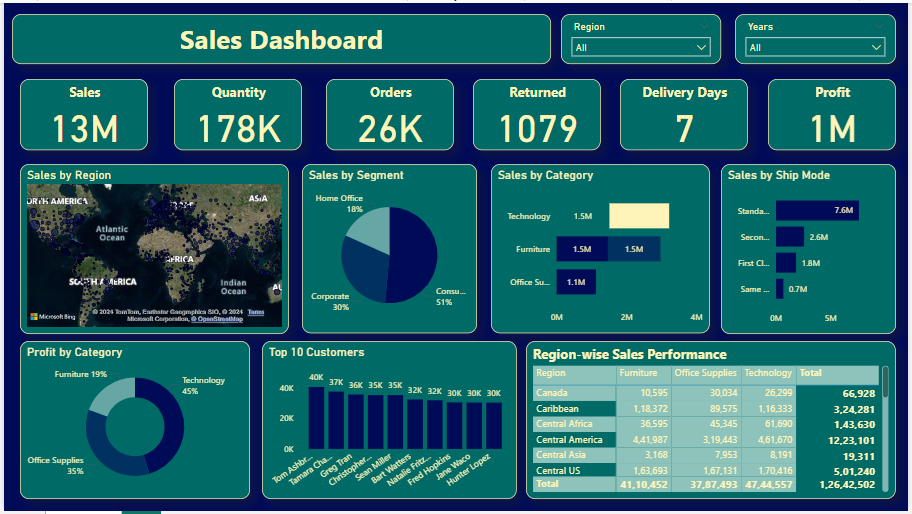

The dashboard page shown, as its layout file describes it:
{"tool":"powerbi","page":{"name":"Page 1","canvas":[1280,720],"ordinal":0},"visuals":[{"type":"textbox","box":[11.3,15.6,763.9,70.9],"z":0},{"type":"slicer","fields":{"Values":["Orders.Years"]},"box":[1036.1,15.6,228.2,70.9],"z":1000},{"type":"card","title":"Sales","fields":{"Values":["Orders.Sales"]},"box":[22.7,107.7,181.4,100.6],"z":2000},{"type":"card","title":"Quantity","fields":{"Values":["Orders.Quantity"]},"box":[240.9,107.7,181.4,100.6],"z":3000},{"type":"card","title":"Orders","fields":{"Values":["Orders.Order ID"]},"box":[456.4,107.7,181.4,100.6],"z":4000},{"type":"card","title":"Returned","fields":{"Values":["Returns.Returns"]},"box":[664.7,107.7,181.4,100.6],"z":5000},{"type":"card","title":"Delivery Days","fields":{"Values":["Orders.Delivery Days"]},"box":[873.1,107.7,181.4,100.6],"z":6000},{"type":"map","title":"Sales by Region","fields":{"Category":["Orders.State"],"Size":["Orders.Sales"]},"box":[22.7,228.2,381.3,240.9],"z":7000},{"type":"pieChart","title":" Sales by Segment","fields":{"Category":["Orders.Segment"],"Y":["Orders.Sales"]},"box":[422.4,228.2,248,239.5],"z":8000},{"type":"barChart","title":"Sales by Category","fields":{"Y":["Orders.Sales"],"Category":["Orders.Category"],"Series":["Orders.Sub-Category"]},"box":[690.2,228.2,310.4,239.5],"z":9000},{"type":"donutChart","title":"Profit by Category","fields":{"Y":["Orders.Profit"],"Category":["Orders.Category"]},"box":[22.7,479.1,326,223.9],"z":10000},{"type":"columnChart","title":"Top 10 Customers","fields":{"Category":["Orders.Customer Name"],"Y":["Orders.Sales"]},"box":[365.7,479.1,361.4,223.9],"z":11000},{"type":"clusteredBarChart","title":"Sales by Ship Mode","fields":{"Category":["Orders.Ship Mode"],"Y":["Orders.Sales"]},"box":[1016.2,228.2,248,240.9],"z":12000},{"type":"slicer","fields":{"Values":["Orders.Region"]},"box":[789.4,15.6,226.8,70.9],"z":13000},{"type":"card","title":"Profit","fields":{"Values":["Orders.Profit"]},"box":[1082.8,107.7,181.4,100.6],"z":14000},{"type":"pivotTable","title":"Region-wise Sales Performance","fields":{"Columns":["Orders.Category"],"Values":["Orders.Sales"],"Rows":["Orders.Region"]},"box":[739.8,479.1,524.4,223.9],"z":15000}]}

Visuals, with their boxes in screenshot pixels (x1, y1, x2, y2), scaled from the page's 1280x720 canvas onto the 912x514 screenshot:
textbox: (x1=8, y1=11, x2=552, y2=62)
slicer - Orders.Years: (x1=738, y1=11, x2=901, y2=62)
"Sales" card: (x1=16, y1=77, x2=145, y2=149)
"Quantity" card: (x1=172, y1=77, x2=301, y2=149)
"Orders" card: (x1=325, y1=77, x2=454, y2=149)
"Returned" card: (x1=474, y1=77, x2=603, y2=149)
"Delivery Days" card: (x1=622, y1=77, x2=751, y2=149)
"Sales by Region" map: (x1=16, y1=163, x2=288, y2=335)
" Sales by Segment" pieChart: (x1=301, y1=163, x2=478, y2=334)
"Sales by Category" barChart: (x1=492, y1=163, x2=713, y2=334)
"Profit by Category" donutChart: (x1=16, y1=342, x2=248, y2=502)
"Top 10 Customers" columnChart: (x1=261, y1=342, x2=518, y2=502)
"Sales by Ship Mode" clusteredBarChart: (x1=724, y1=163, x2=901, y2=335)
slicer - Orders.Region: (x1=562, y1=11, x2=724, y2=62)
"Profit" card: (x1=771, y1=77, x2=901, y2=149)
"Region-wise Sales Performance" pivotTable: (x1=527, y1=342, x2=901, y2=502)
